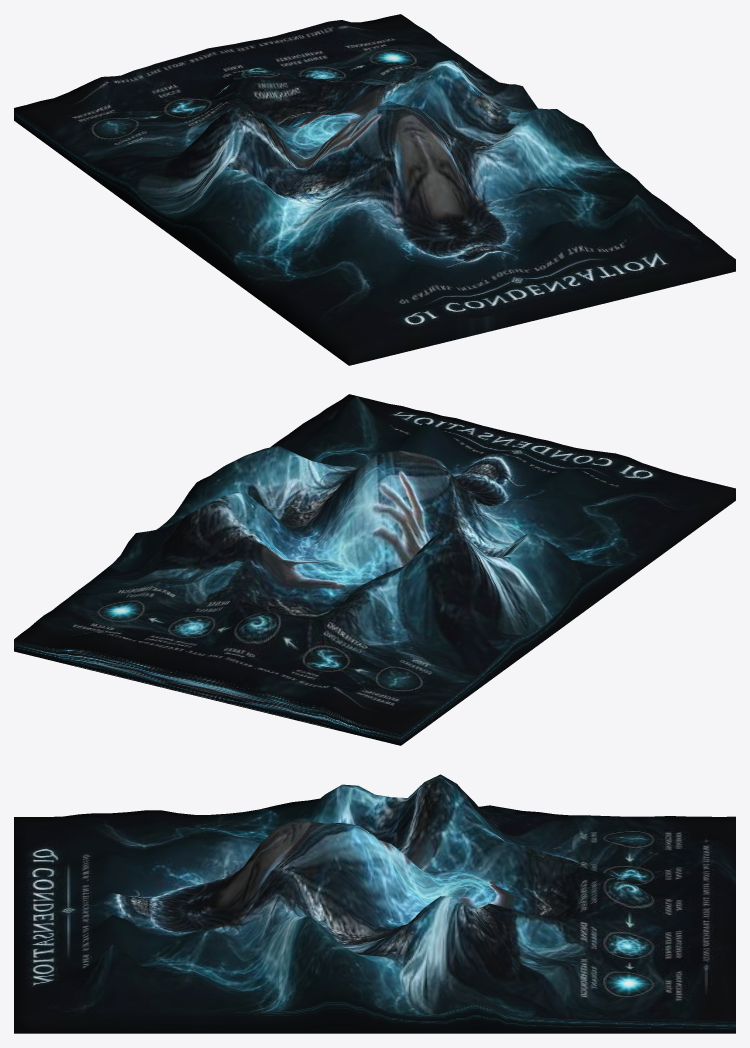
Rendered from REALM_02_Qi_Condensation.glb.
3 renders of one model, top to bottom at view 1: azimuth 30°, elevation 25°; view 2: azimuth 150°, elevation 25°; view 3: azimuth 270°, elevation 25°, orthographic. The views are drawn at different scales.
Parts seen in each view (by area): view 1: REALM_02_Qi_Condensation; view 2: REALM_02_Qi_Condensation; view 3: REALM_02_Qi_Condensation.
Boxes of the visible parts, x1=… form: REALM_02_Qi_Condensation: x1=14, y1=14, x2=735, y2=365; REALM_02_Qi_Condensation: x1=14, y1=394, x2=735, y2=745; REALM_02_Qi_Condensation: x1=14, y1=774, x2=735, y2=1033.
Bounding box in the file's own units: 2 × 0.51 × 3.
1 material, 1 textured.
